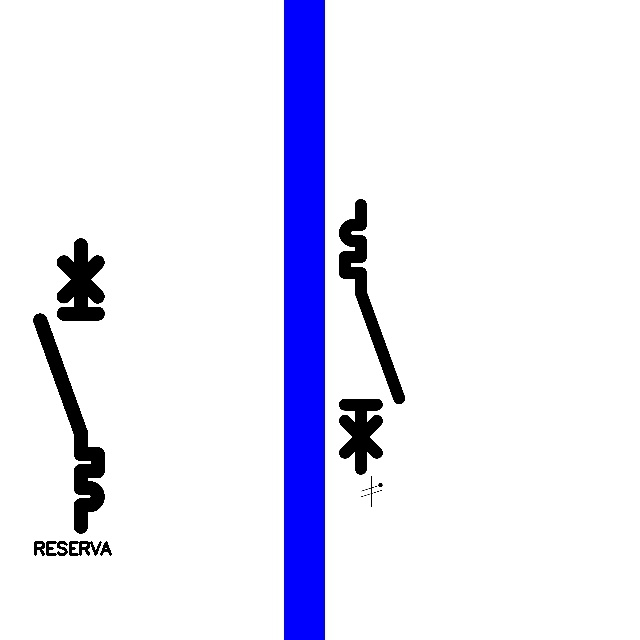interruptor_termomagnetico: (33, 238, 105, 534), (338, 198, 406, 476)
